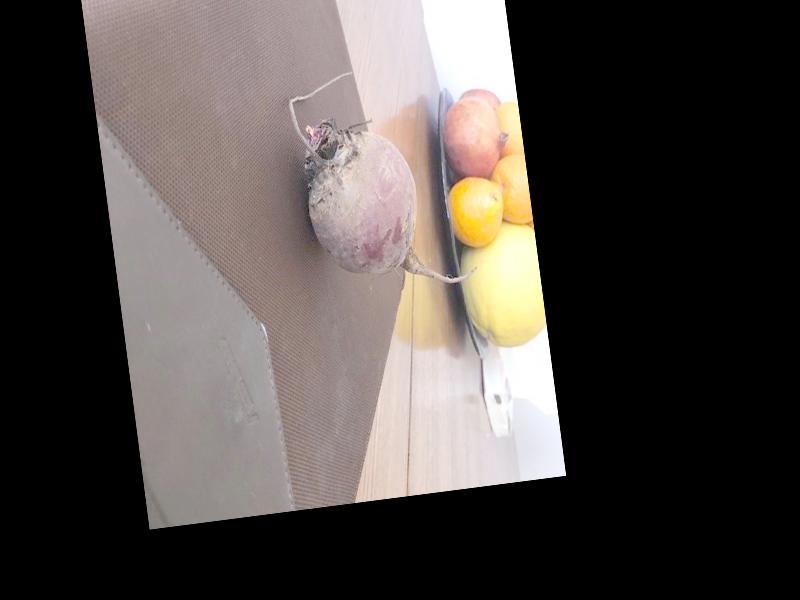Beet: (285, 57, 479, 302)
